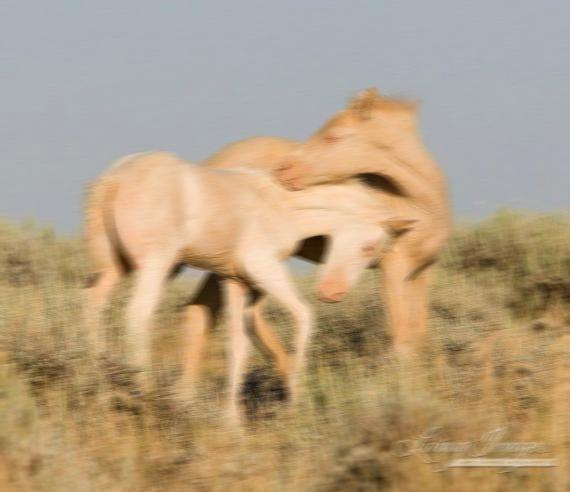horse: (80, 135, 418, 430)
